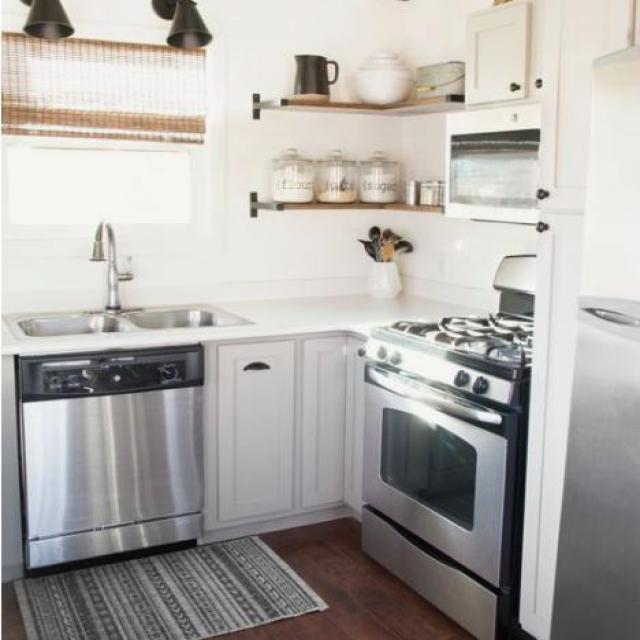dishwasher: (12, 337, 212, 570)
